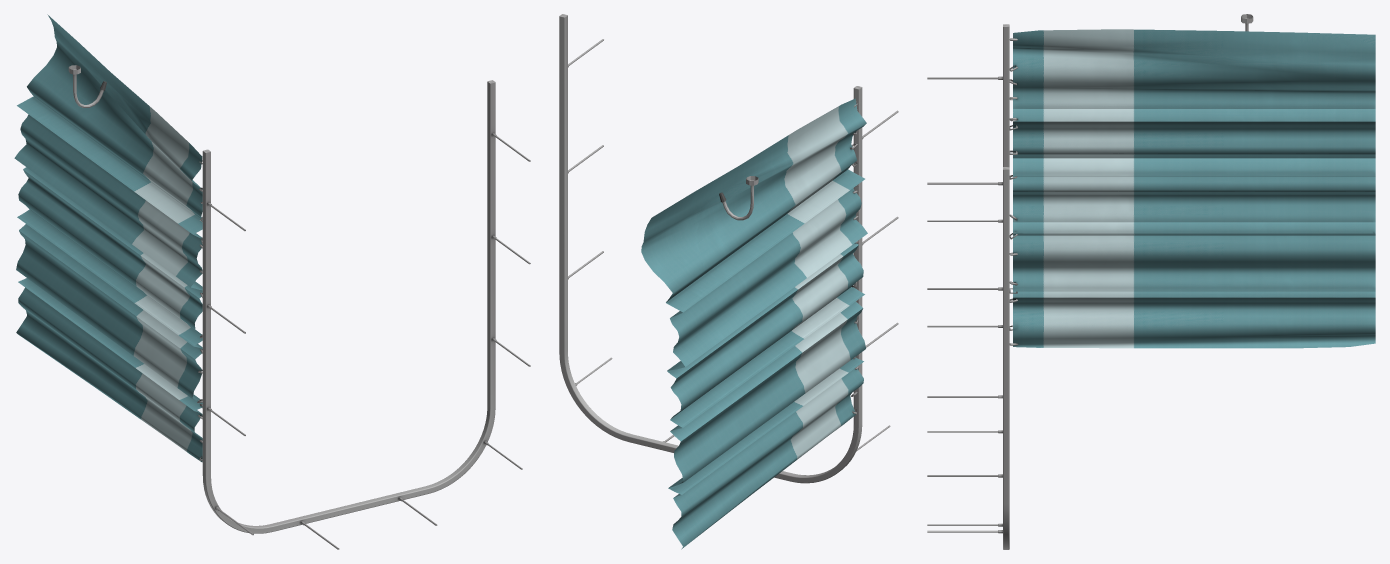
Rendered from aws_robomaker_hospital_curtain_half_open_01_visual.dae.
3 renders of one model, left to right at view 1: azimuth 30°, elevation 25°; view 2: azimuth 150°, elevation 25°; view 3: azimuth 270°, elevation 25°, orthographic. The views are drawn at different scales.
Visible parts, largest first — view 1: aws_robomaker_hospital_curtain_half_open_01_visual, aws_robomaker_hospital_curtainrail_01_visual; view 2: aws_robomaker_hospital_curtain_half_open_01_visual, aws_robomaker_hospital_curtainrail_01_visual; view 3: aws_robomaker_hospital_curtain_half_open_01_visual, aws_robomaker_hospital_curtainrail_01_visual.
Boxes of the visible parts, x1,y1,x2,y2 form: aws_robomaker_hospital_curtain_half_open_01_visual: [14, 14, 202, 462]; aws_robomaker_hospital_curtainrail_01_visual: [68, 65, 530, 549]; aws_robomaker_hospital_curtain_half_open_01_visual: [641, 98, 867, 549]; aws_robomaker_hospital_curtainrail_01_visual: [559, 14, 898, 483]; aws_robomaker_hospital_curtain_half_open_01_visual: [1009, 29, 1375, 348]; aws_robomaker_hospital_curtainrail_01_visual: [927, 14, 1253, 549].
Bounding box in the file's own units: 238 × 293 × 292.
Materials: 2 (2 with a texture image).
